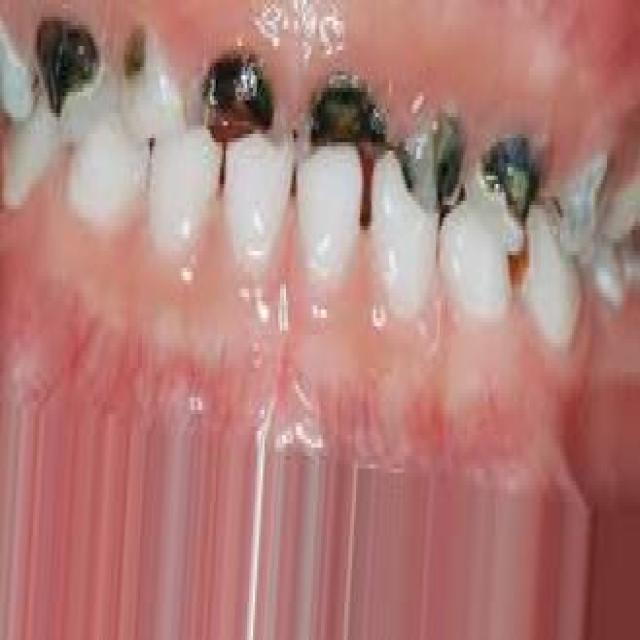caries: (299, 52, 394, 173), (394, 84, 470, 231), (470, 110, 543, 254), (197, 33, 280, 154), (550, 126, 616, 271), (30, 0, 101, 120), (117, 20, 164, 114)
